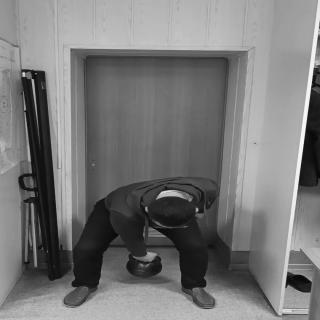girya: (127, 253, 165, 280)
